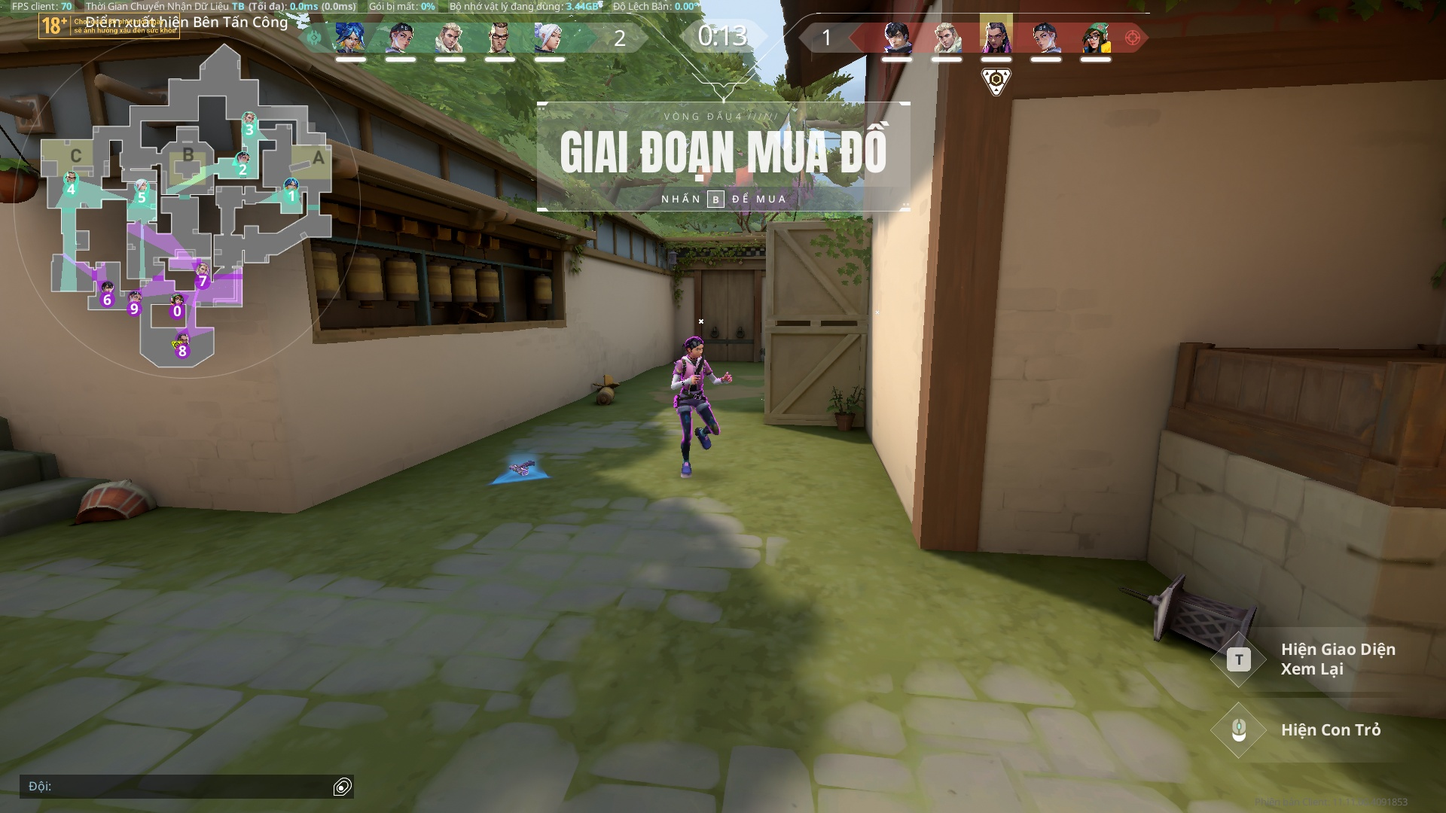body: (678, 354, 706, 388)
head: (685, 336, 704, 356)
